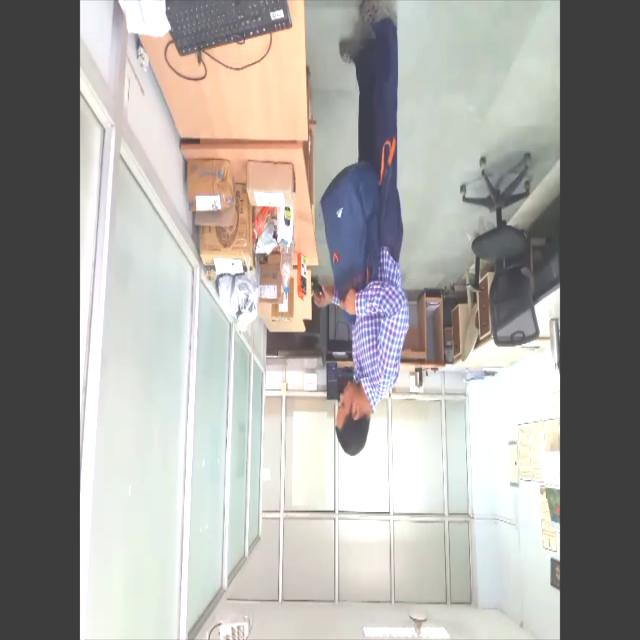shoplifting: (309, 0, 417, 459)
